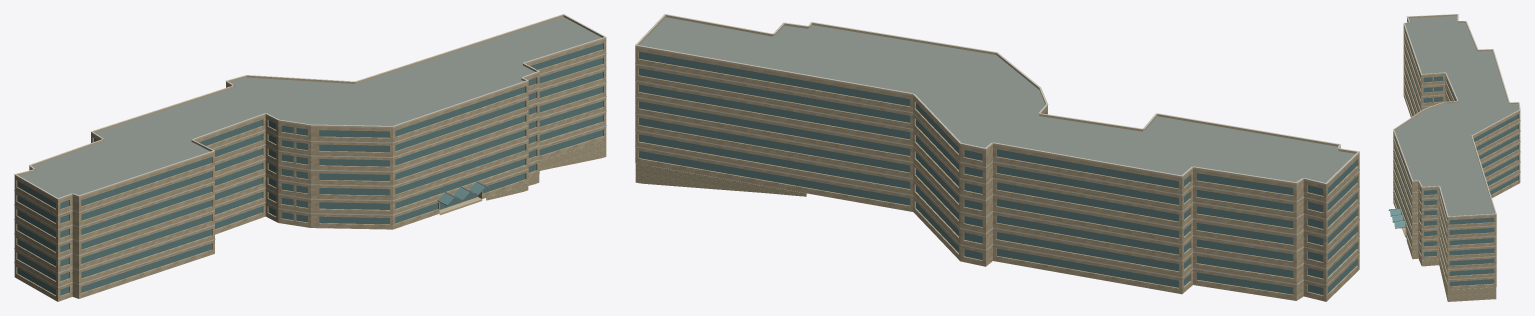
3 renders of one model, left to right at view 1: azimuth 30°, elevation 25°; view 2: azimuth 150°, elevation 25°; view 3: azimuth 270°, elevation 25°, orthographic. The views are drawn at different scales.
Parts seen in each view (by area): view 1: design__wall, design__glass, design__roof, design__trim, design__frame, design__parapet, design__foundationSkirt, design__roofGlass; view 2: design__wall, design__glass, design__roof, design__trim, design__frame, design__parapet, design__foundationSkirt; view 3: design__roof, design__wall, design__glass, design__trim, design__foundationSkirt, design__parapet, design__frame, design__roofGlass.
Part boxes in pixels (<box>): design__wall: <box>14,39,606,301</box>; design__glass: <box>17,43,603,295</box>; design__roof: <box>19,17,601,298</box>; design__trim: <box>14,14,606,287</box>; design__frame: <box>22,45,596,293</box>; design__parapet: <box>14,15,606,200</box>; design__foundationSkirt: <box>486,140,606,200</box>; design__roofGlass: <box>438,182,489,204</box>; design__wall: <box>635,47,1359,301</box>; design__glass: <box>639,51,1356,294</box>; design__roof: <box>636,17,1355,300</box>; design__trim: <box>635,14,1359,285</box>; design__frame: <box>647,53,1349,293</box>; design__parapet: <box>635,15,1359,185</box>; design__foundationSkirt: <box>635,163,806,196</box>; design__roof: <box>1395,16,1519,289</box>; design__wall: <box>1393,18,1520,289</box>; design__glass: <box>1394,31,1518,286</box>; design__trim: <box>1393,14,1520,280</box>; design__foundationSkirt: <box>1406,239,1496,301</box>; design__parapet: <box>1394,14,1520,217</box>; design__frame: <box>1388,35,1511,285</box>; design__roofGlass: <box>1389,209,1405,227</box>.
Size of the model in its own units: 148 by 29.06 by 40.86.
10 materials, 2 textured.
